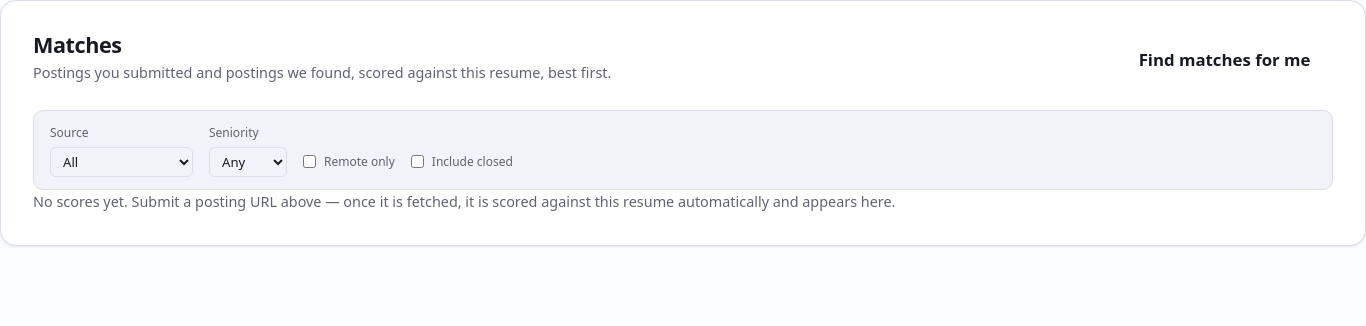
find matches for me › distinguishes queued from already-current
Click the button "Find matches for me". click: [1224, 59]
box: x1=1116 y1=33 x2=1333 y2=86
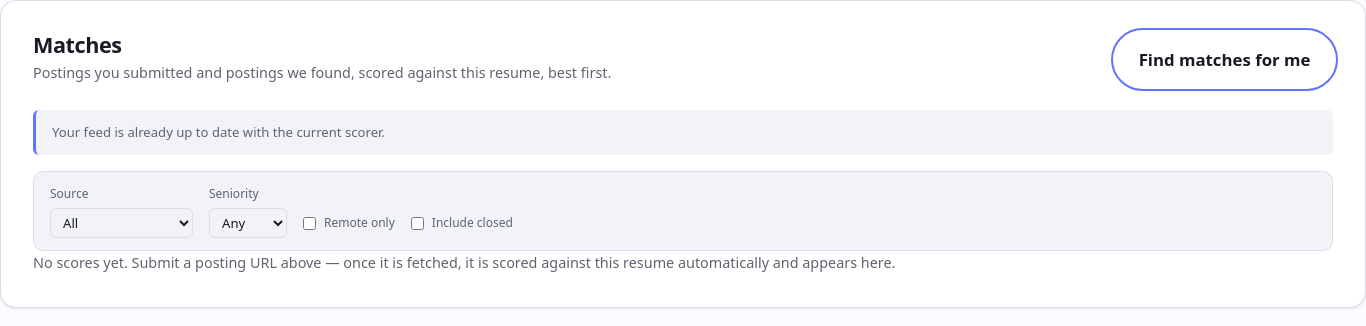
Result: the text "Your feed is already up to date with the current scorer." is shown at x1=33 y1=110 x2=1333 y2=155
